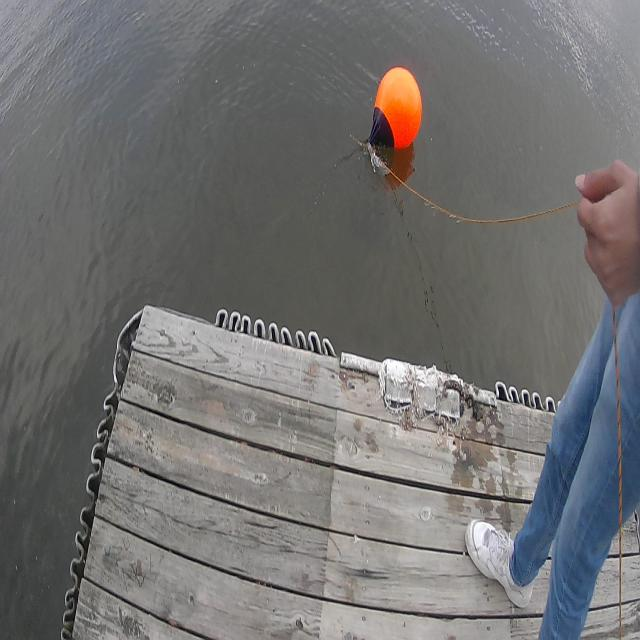Buoy: (366, 58, 424, 154)
